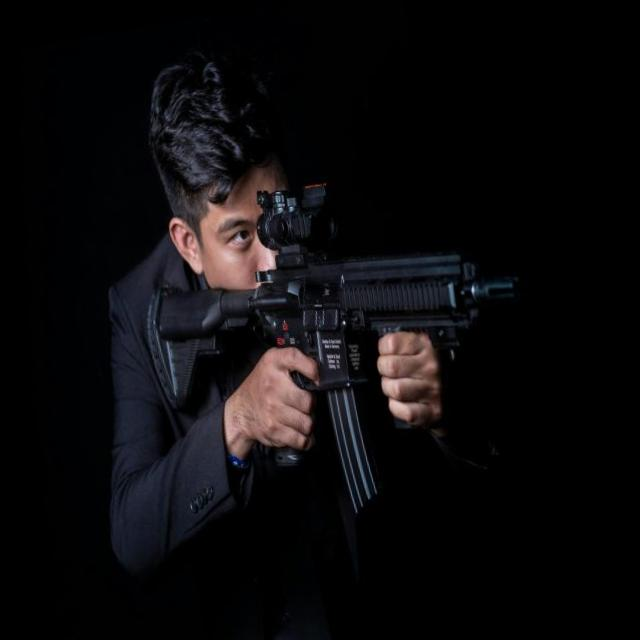Gun: (158, 184, 526, 515)
